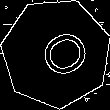O_SW: (23, 22, 89, 84)
